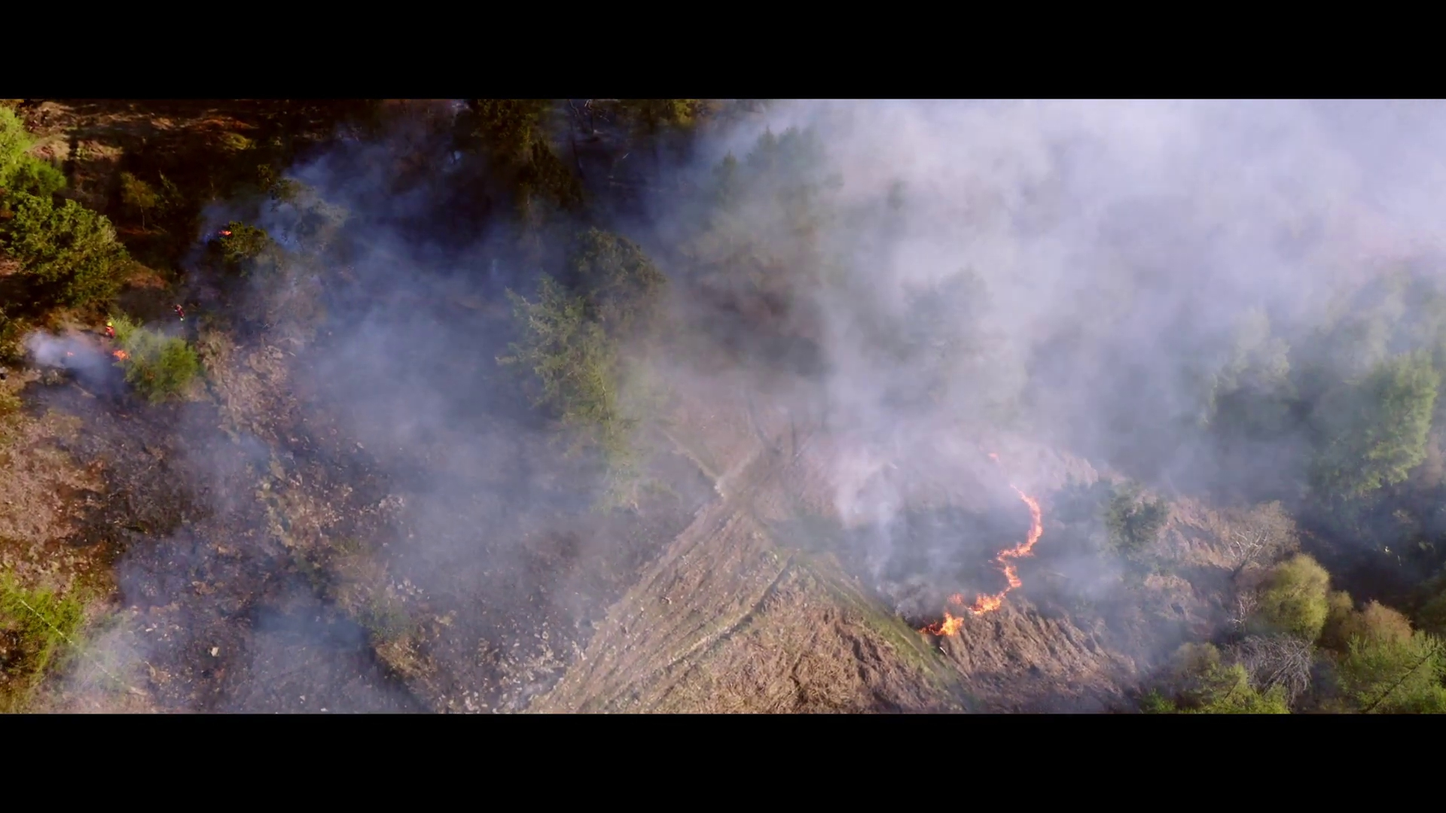forest_fire: (968, 485, 1042, 614), (929, 616, 958, 635), (112, 349, 129, 360)
